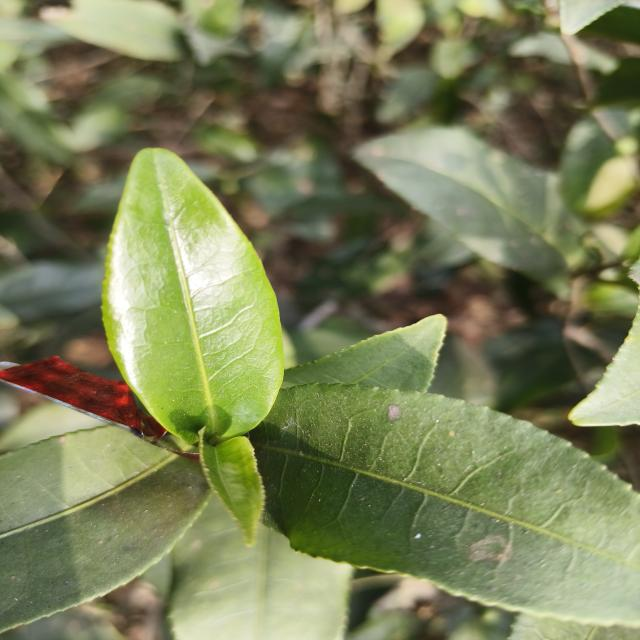Leaf: (251, 384, 640, 626), (103, 149, 283, 444), (0, 426, 209, 631), (354, 127, 582, 288), (169, 493, 352, 640), (284, 314, 446, 392), (483, 317, 574, 411), (41, 0, 181, 61), (199, 429, 264, 546), (0, 261, 104, 321)
